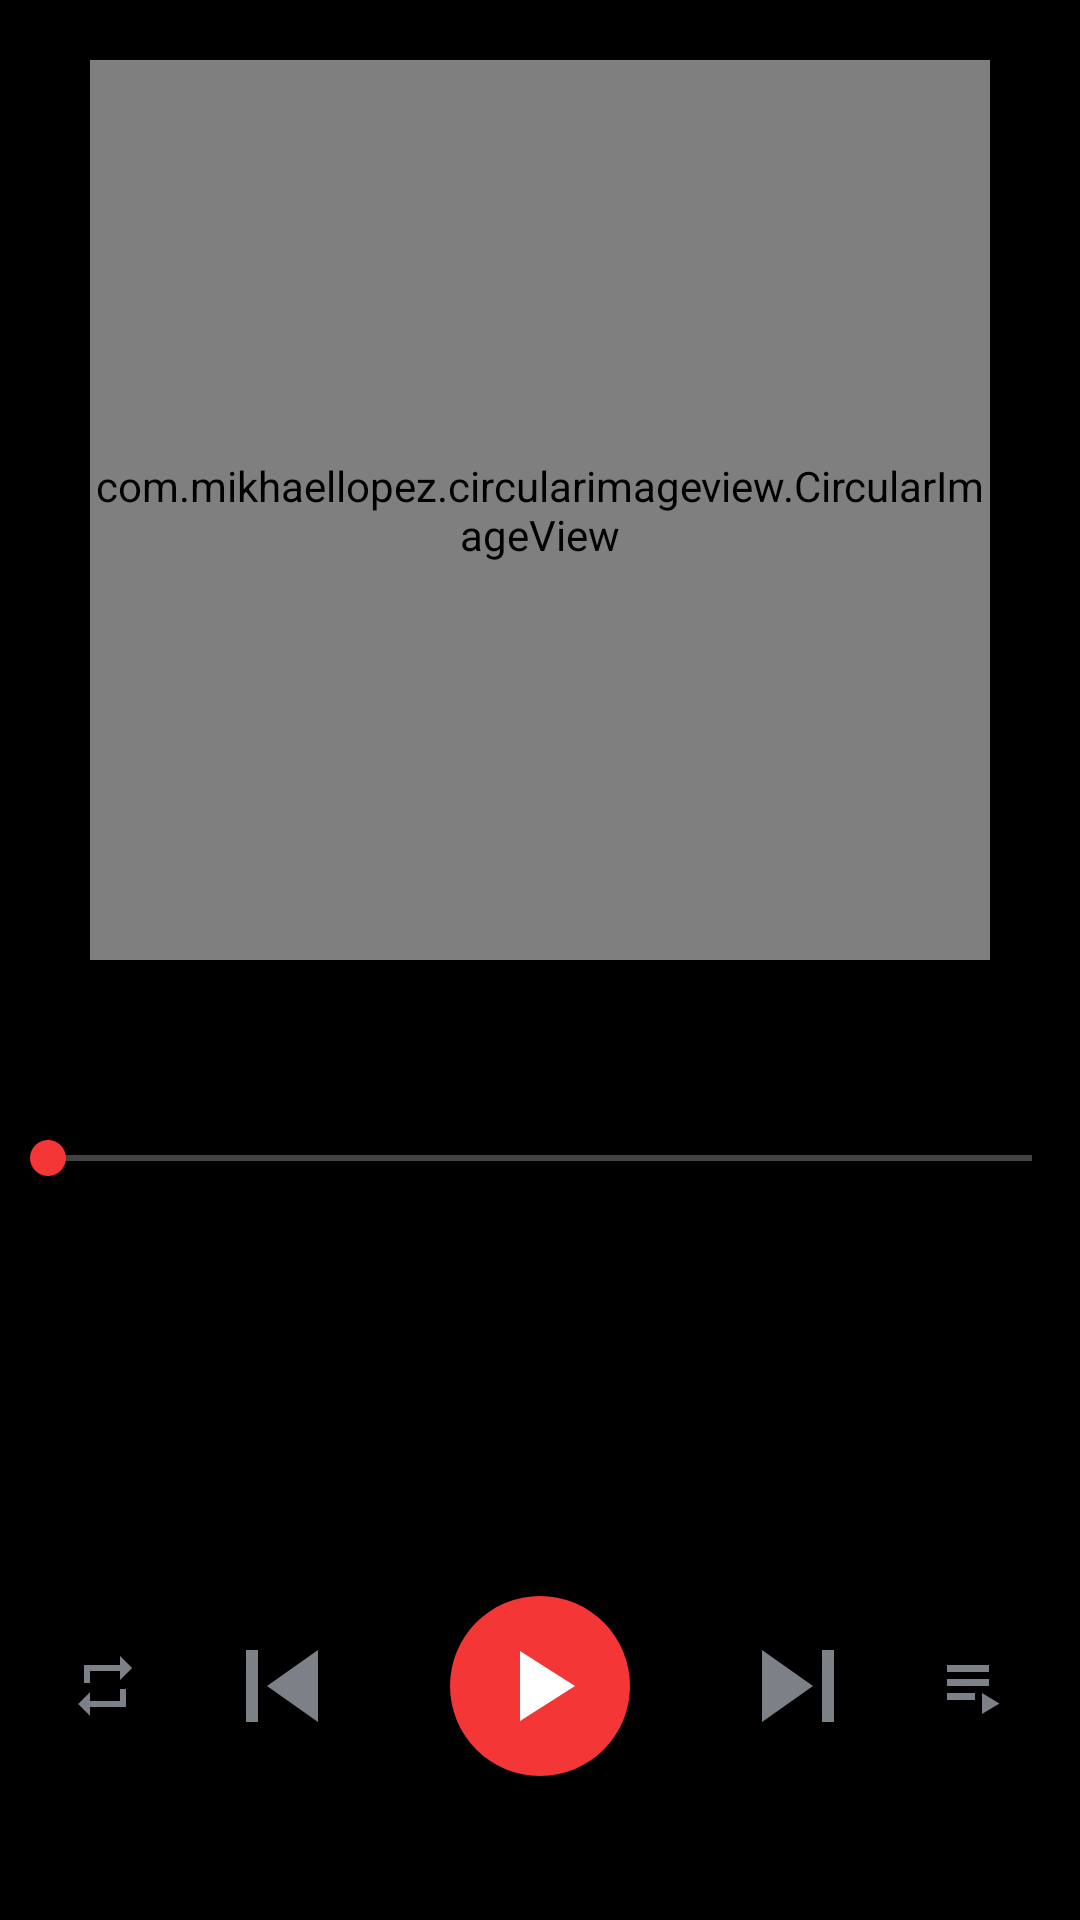

Named icons in this screenshot (1080 × 1920) and their centers, point (x, y):
next: point (798, 1686)
play: point (540, 1686)
playlist: point (973, 1689)
previous: point (282, 1686)
repeat: point (105, 1686)
